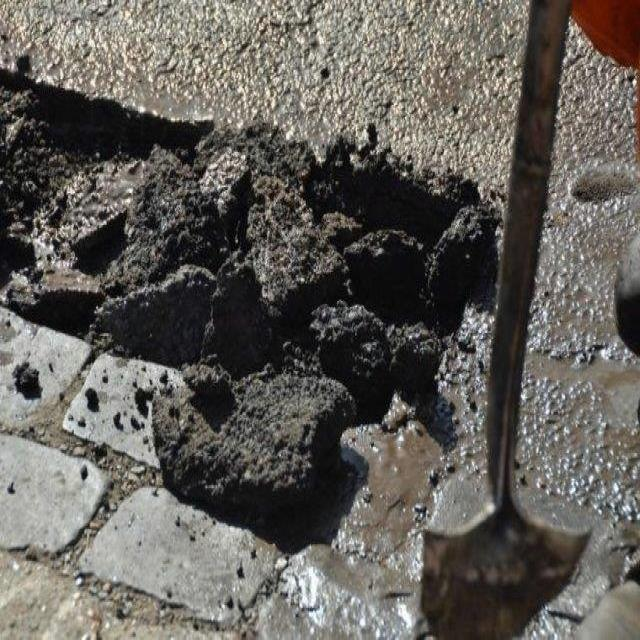lubang: (0, 62, 493, 484)
